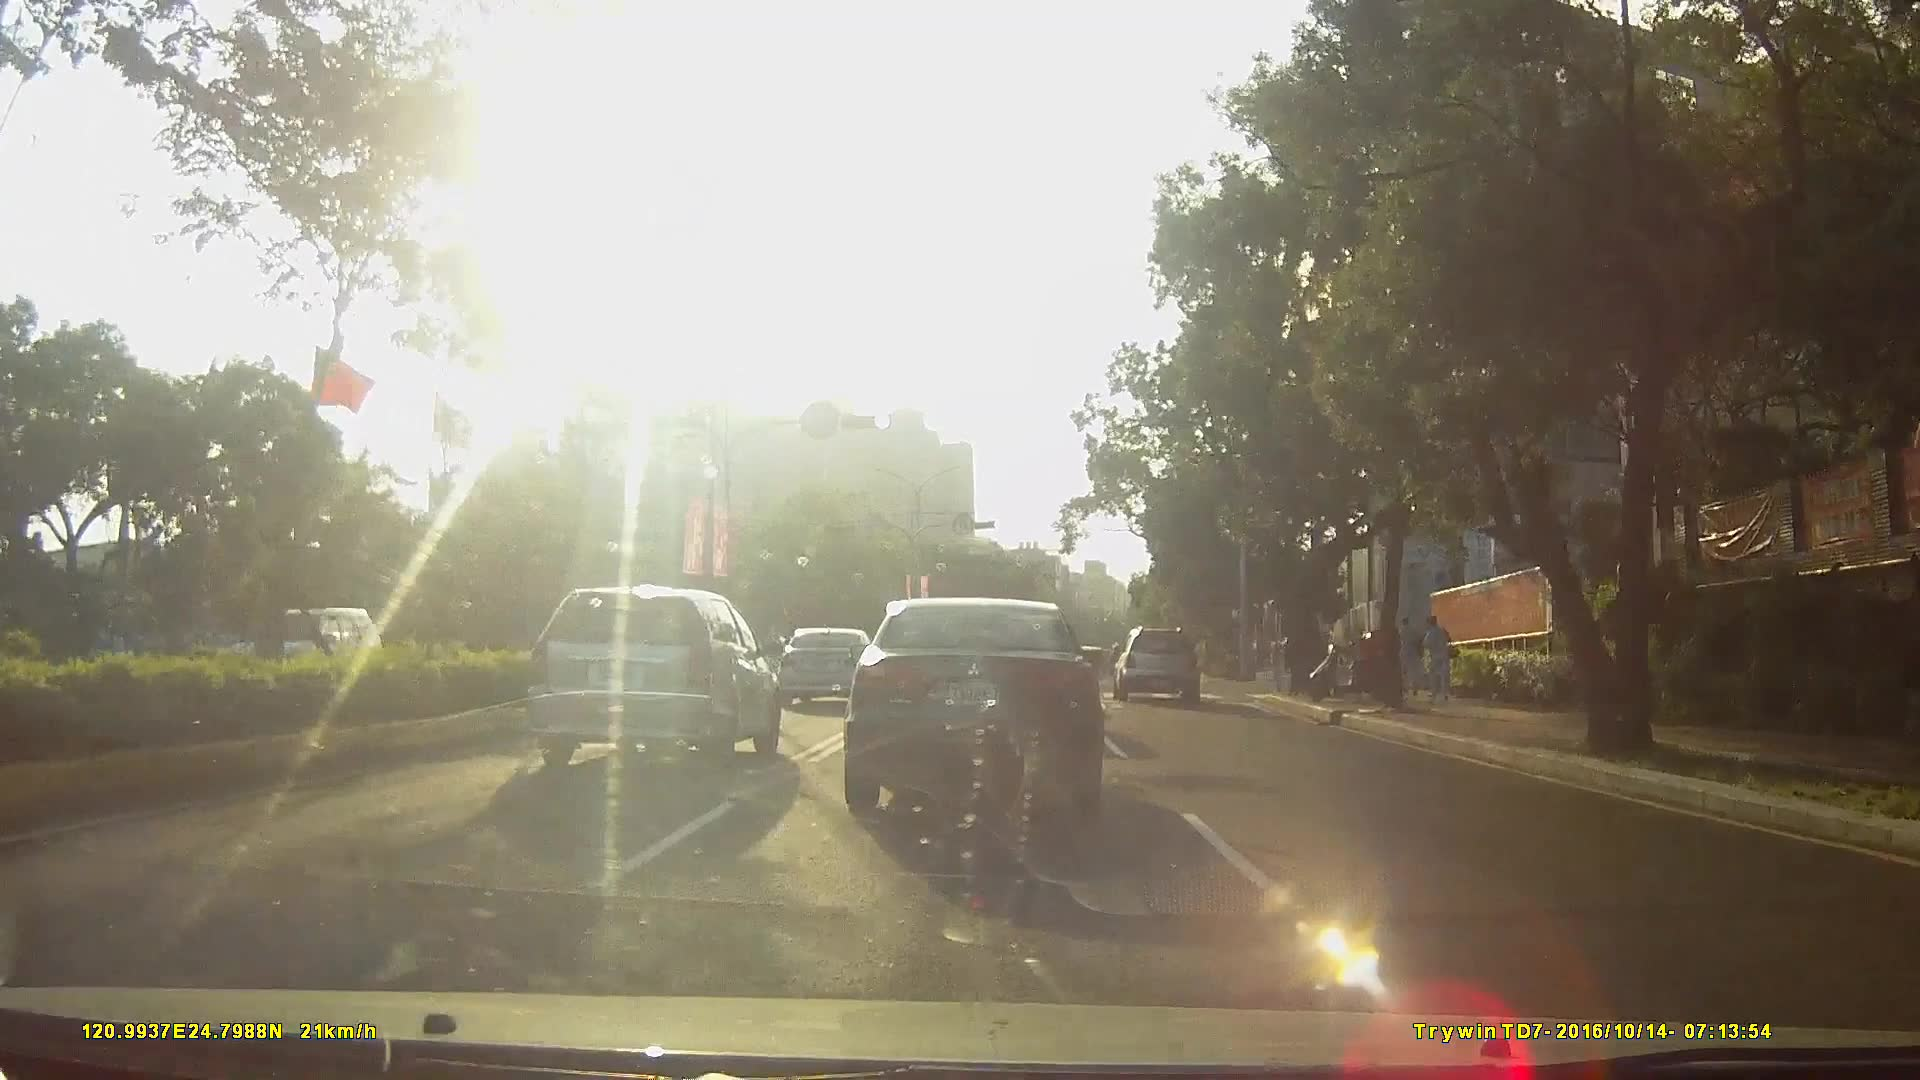pedestrian: (1422, 617, 1459, 707), (1401, 616, 1424, 696)
vehicle: (839, 597, 1106, 826), (520, 587, 779, 772), (219, 607, 384, 705), (774, 628, 876, 717), (1110, 624, 1209, 706)
